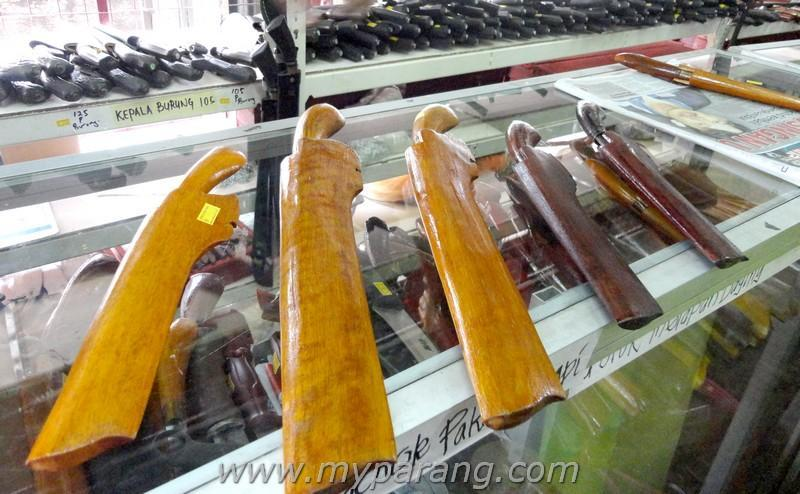facao: (88, 132, 237, 461), (410, 103, 534, 450), (504, 107, 657, 328), (290, 100, 372, 475), (589, 88, 747, 264)
